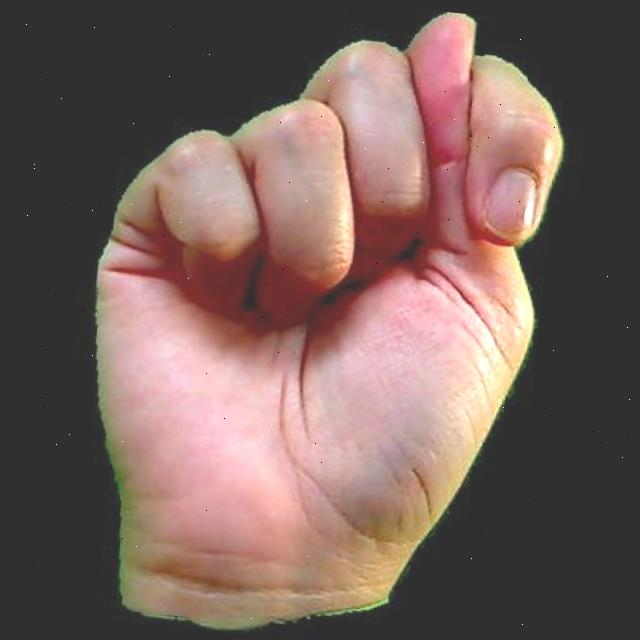t: (41, 0, 593, 640)
